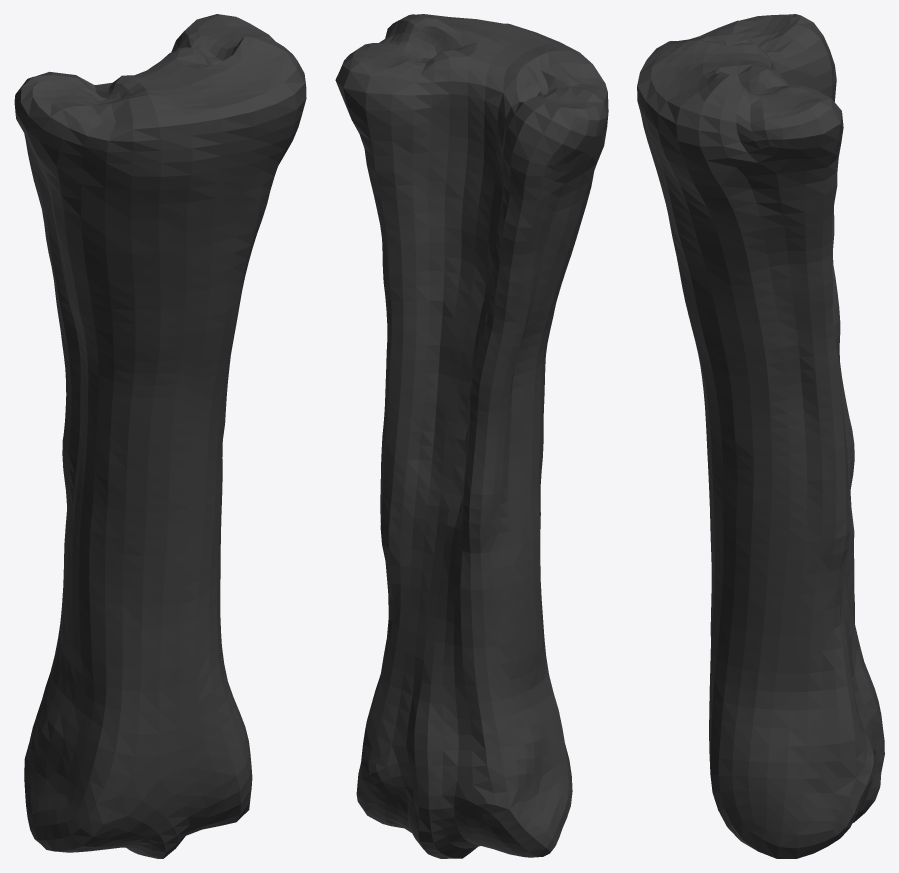
The model's file is Metacarpal_L.glb.
3 renders of one model, left to right at view 1: azimuth 30°, elevation 25°; view 2: azimuth 150°, elevation 25°; view 3: azimuth 270°, elevation 25°, orthographic. The views are drawn at different scales.
Parts seen in each view (by area): view 1: Metacarpal_L; view 2: Metacarpal_L; view 3: Metacarpal_L.
Part boxes in pixels (x1=…): Metacarpal_L: x1=14, y1=14, x2=306, y2=858; Metacarpal_L: x1=335, y1=14, x2=608, y2=858; Metacarpal_L: x1=637, y1=14, x2=884, y2=858.
Size of the model in its own units: 0.1083 by 0.3382 by 0.0948.
Materials: 1 (1 with a texture image).
